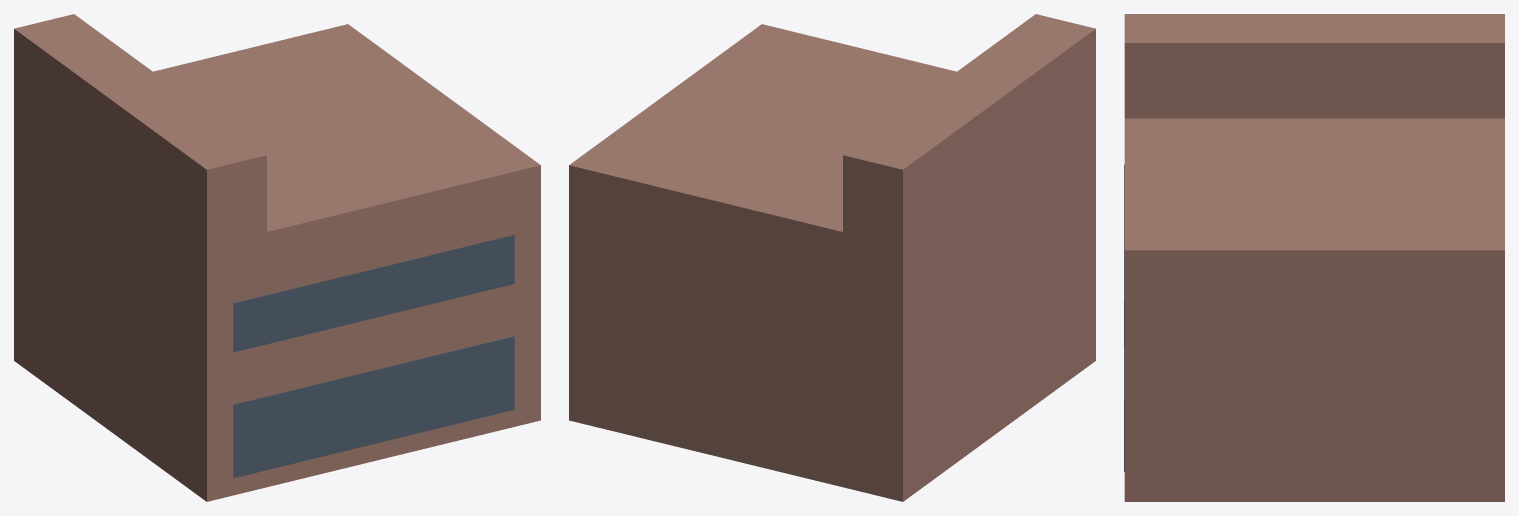
File: townhouse.walls-v1.lod2.glb
3 renders of one model, left to right at view 1: azimuth 30°, elevation 25°; view 2: azimuth 150°, elevation 25°; view 3: azimuth 270°, elevation 25°, orthographic.
Parts seen in each view (by area): view 1: townhouse; view 2: townhouse; view 3: townhouse.
Boxes of the visible parts, x1,y1,x2,y2 form: townhouse: (14, 14, 540, 501); townhouse: (569, 14, 1095, 501); townhouse: (1124, 14, 1504, 501).
Size of the model in its own units: 10 by 9.5 by 10.02.
